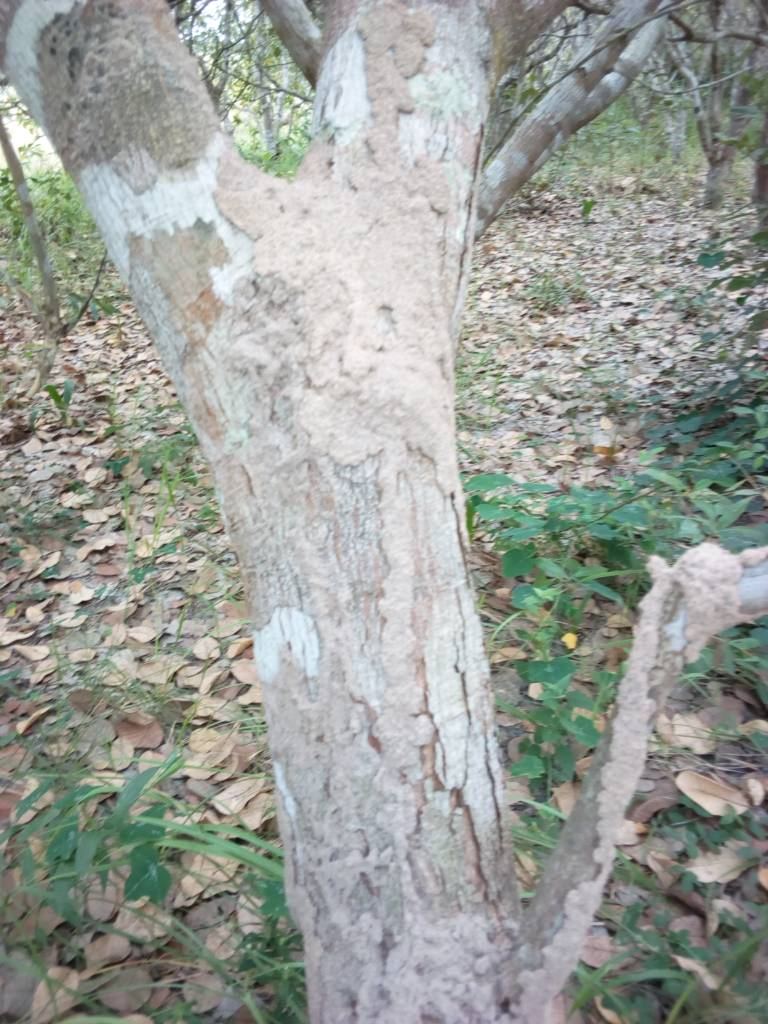Termites: (268, 447, 502, 1011), (544, 536, 749, 967), (221, 155, 466, 444), (350, 10, 436, 147)
